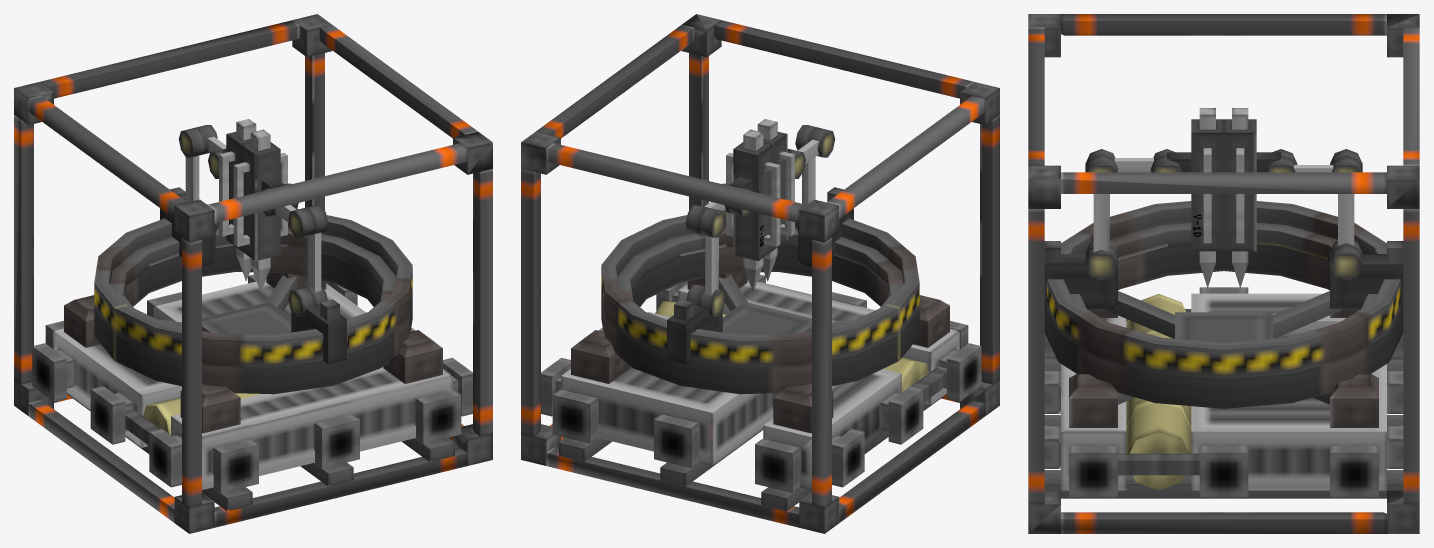
The model's file is advanced_assembler.obj.
3 renders of one model, left to right at view 1: azimuth 30°, elevation 25°; view 2: azimuth 150°, elevation 25°; view 3: azimuth 270°, elevation 25°, orthographic. The views are drawn at different scales.
Visible parts, largest first — view 1: Base, Frame, Ring, Head1, Head2, ArmLower1, ArmLower2, ArmUpper1, Spike1, Spike2; view 2: Base, Frame, Ring, Head2, ArmLower2, Head1, ArmUpper1, ArmLower1, Spike2, Spike1, ArmUpper2; view 3: Base, Frame, Ring, Head1, Head2, ArmLower1, ArmLower2, ArmUpper2, ArmUpper1, Spike1, Spike2.
Part boxes in pixels (box(x1,y1,x2,y2)): Base: box(14, 245, 492, 533); Frame: box(14, 14, 492, 507); Ring: box(94, 187, 412, 367); Head1: box(233, 142, 298, 261); Head2: box(208, 131, 250, 250); ArmLower1: box(304, 205, 328, 305); ArmLower2: box(179, 128, 205, 202); ArmUpper1: box(261, 187, 315, 237); Spike1: box(250, 129, 270, 292); Spike2: box(236, 119, 256, 281); Base: box(521, 245, 999, 533); Frame: box(521, 14, 999, 507); Ring: box(601, 187, 919, 367); Head2: box(726, 142, 780, 261); ArmLower2: box(698, 208, 725, 316); Head1: box(763, 131, 794, 250); ArmUpper1: box(787, 128, 834, 178); ArmLower1: box(795, 125, 818, 230); Spike2: box(743, 129, 763, 292); Spike1: box(757, 119, 777, 281); ArmUpper2: box(685, 183, 734, 234); Base: box(1028, 244, 1419, 533); Frame: box(1028, 14, 1419, 504); Ring: box(1044, 201, 1403, 379); Head1: box(1150, 119, 1223, 251); Head2: box(1224, 119, 1297, 251); ArmLower1: box(1085, 156, 1117, 280); ArmLower2: box(1330, 149, 1362, 258); ArmUpper2: box(1266, 156, 1362, 172); ArmUpper1: box(1085, 149, 1175, 172); Spike1: box(1199, 108, 1215, 287); Spike2: box(1232, 108, 1248, 287).
Bounding box in the file's own units: 3 × 3 × 3.
